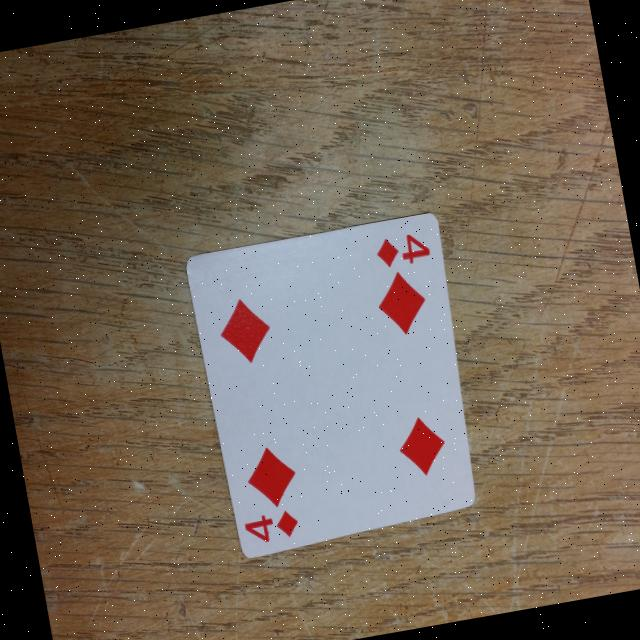4d: (236, 496, 304, 556), (368, 222, 436, 280)
